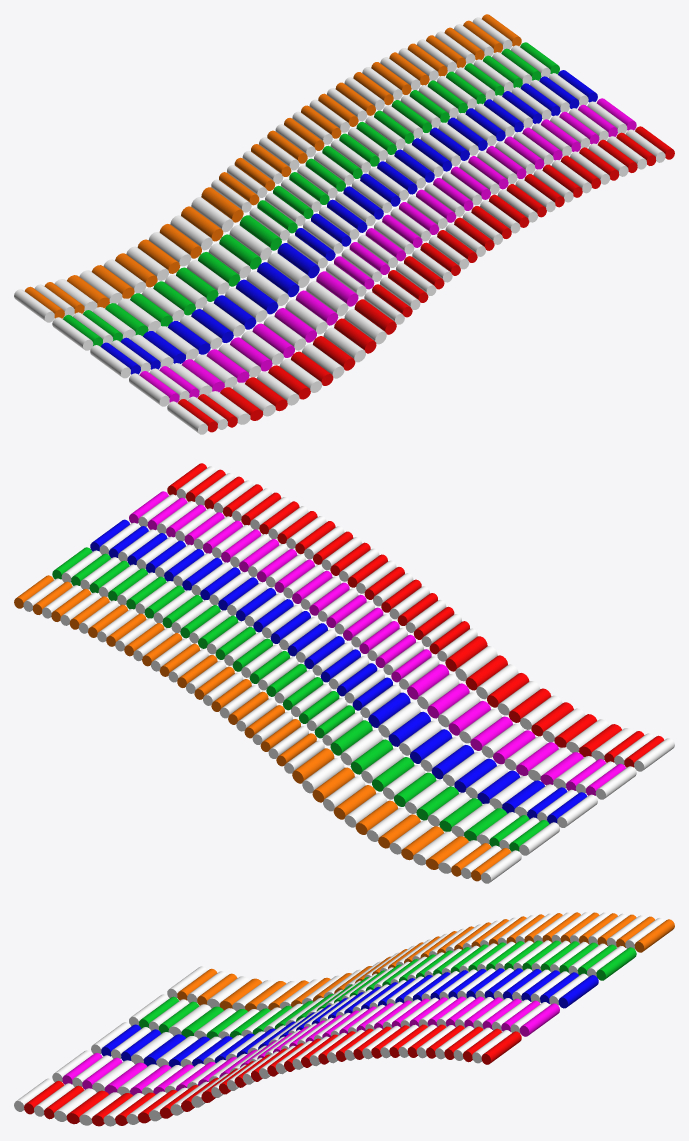
The model's file is nhung 3 tim.fbx.
3 views of the same model, one above another, from view 1: azimuth 30°, elevation 25°; view 2: azimuth 150°, elevation 25°; view 3: azimuth 330°, elevation 25° (orthographic).
Parts seen in each view (by area): view 1: Cloner_9, Cloner_5, Cloner_7, Cloner_8, Cloner_6; view 2: Cloner_8, Cloner_7, Cloner_6, Cloner_9, Cloner_5; view 3: Cloner_9, Cloner_5, Cloner_8, Cloner_7, Cloner_6.
Boxes of the visible parts, box(x1,y1,x2,y2) form: Cloner_9: box(167, 126, 674, 434); Cloner_5: box(90, 70, 597, 378); Cloner_7: box(129, 98, 636, 406); Cloner_8: box(14, 14, 521, 322); Cloner_6: box(52, 42, 559, 350); Cloner_8: box(14, 575, 521, 883); Cloner_7: box(129, 491, 636, 799); Cloner_6: box(52, 547, 559, 855); Cloner_9: box(167, 463, 674, 771); Cloner_5: box(90, 519, 597, 827); Cloner_9: box(14, 1024, 521, 1126); Cloner_5: box(91, 968, 598, 1067); Cloner_8: box(167, 912, 674, 1011); Cloner_7: box(52, 996, 559, 1095); Cloner_6: box(129, 940, 636, 1039).
Bounding box in the file's own units: 719 × 248 × 480.
